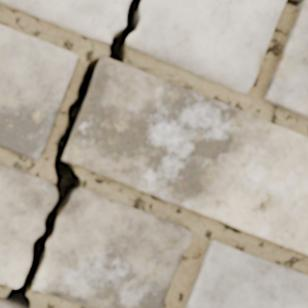brick: (64, 58, 307, 254), (0, 25, 78, 160), (185, 241, 307, 307), (264, 0, 307, 118), (0, 301, 18, 307)
broken_brick: (34, 188, 194, 307), (129, 0, 285, 94), (0, 162, 56, 287), (0, 0, 129, 45)
crack: (0, 0, 144, 307), (284, 0, 306, 9)
